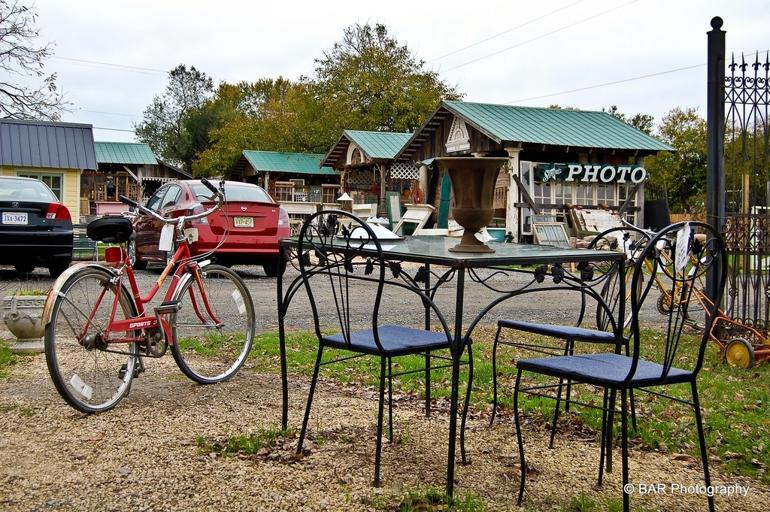non-vehicle: (39, 177, 255, 413), (596, 205, 736, 332)
